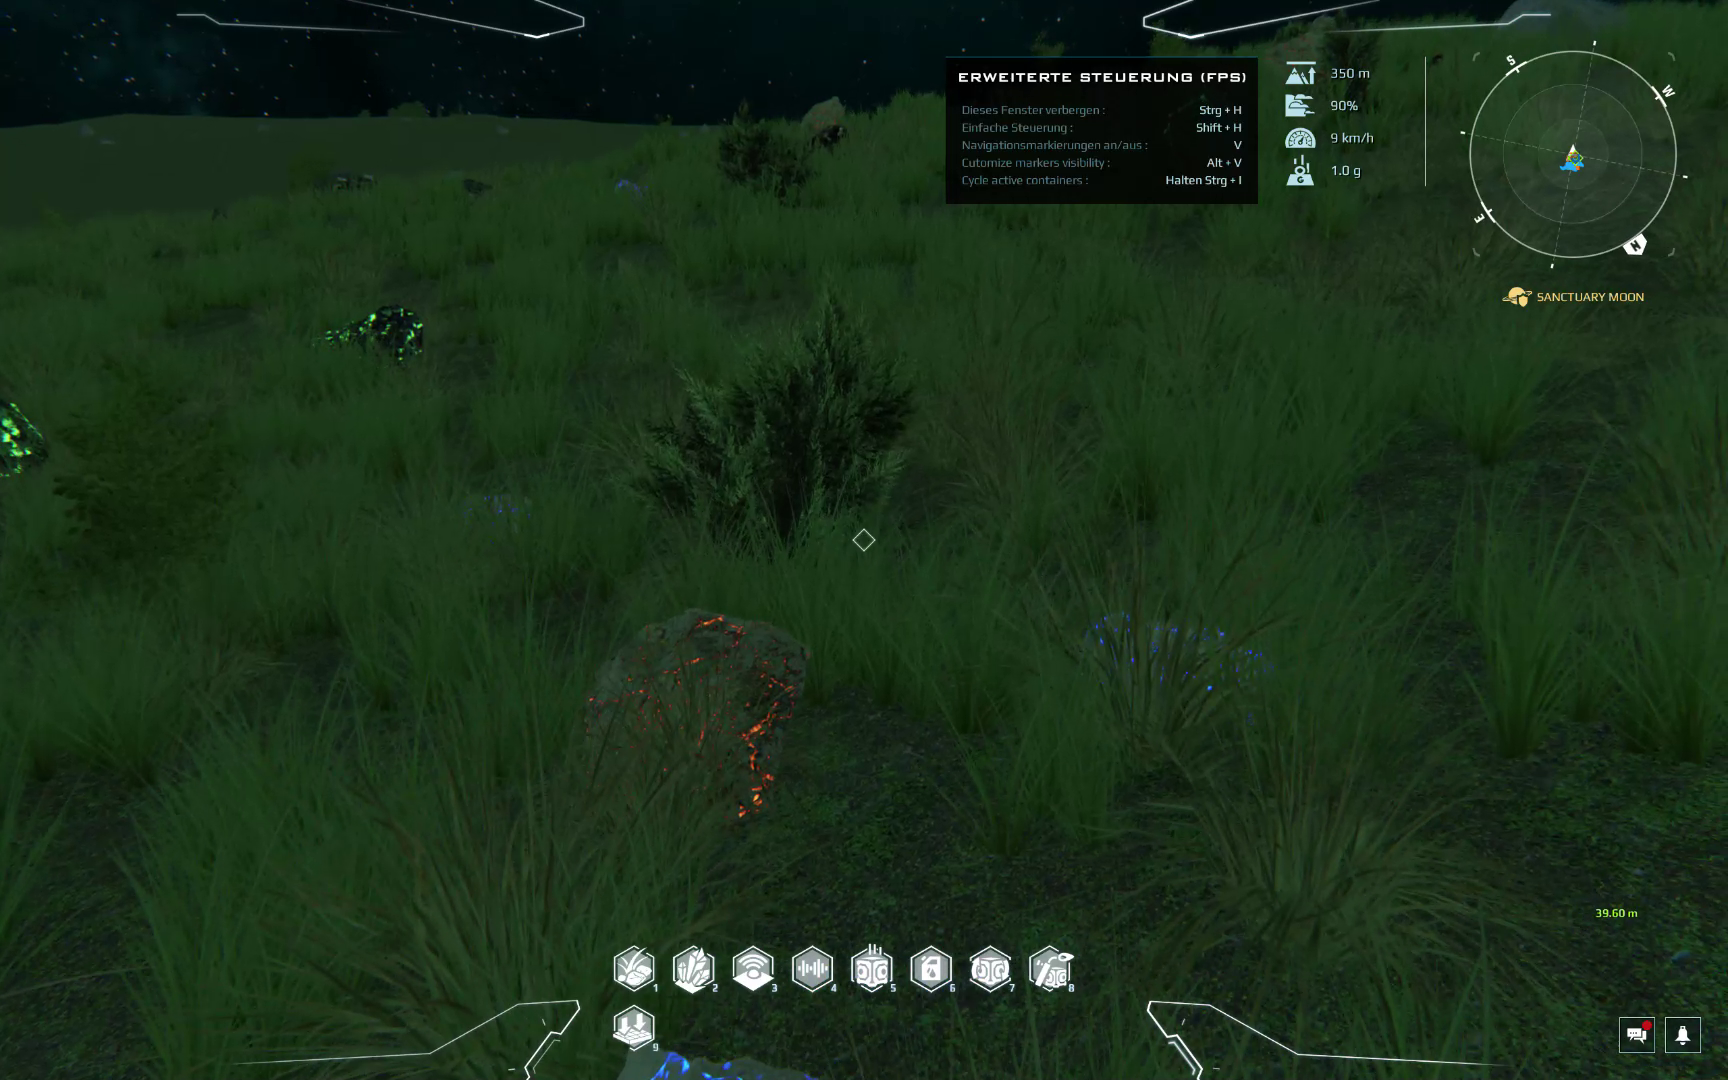Ore: (572, 603, 815, 847), (1079, 590, 1273, 718), (598, 1026, 834, 1080), (321, 299, 435, 367), (1, 394, 57, 491), (454, 479, 537, 541), (797, 118, 853, 157), (325, 169, 381, 197), (605, 175, 649, 207), (452, 174, 495, 199)
